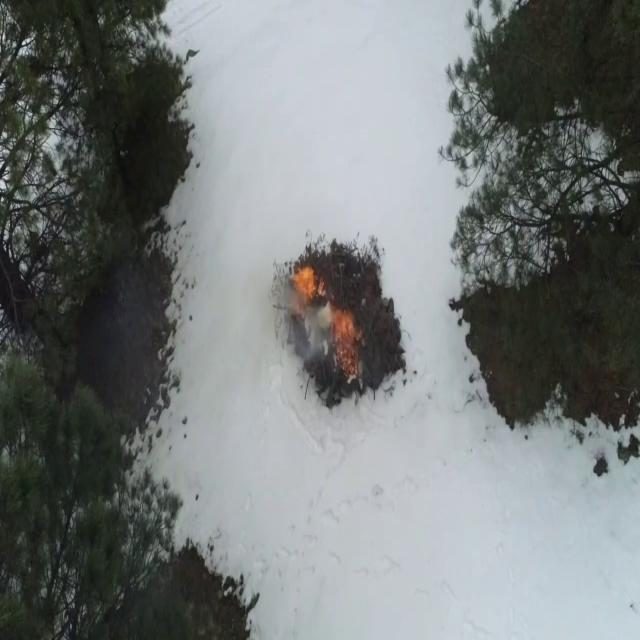fire: (334, 310, 361, 377), (291, 267, 316, 317)
